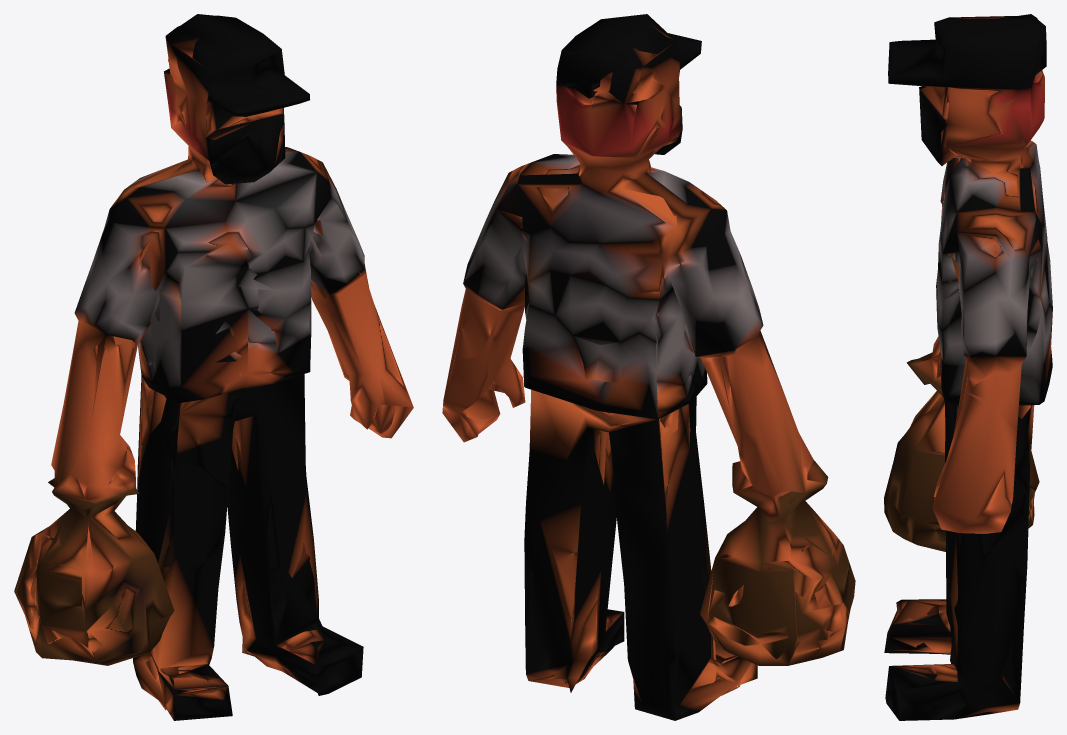
Rendered from gen3d-robber-lod0.glb.
3 views of the same model, side by side, from view 1: azimuth 30°, elevation 25°; view 2: azimuth 150°, elevation 25°; view 3: azimuth 270°, elevation 25° (orthographic). The views are drawn at different scales.
Parts seen in each view (by area): view 1: part_0; view 2: part_0; view 3: part_0.
Boxes of the visible parts, left/top/right/bottom form: part_0: left=14, top=14, right=413, bottom=720; part_0: left=442, top=14, right=855, bottom=720; part_0: left=884, top=14, right=1052, bottom=720.
Size of the model in its own units: 0.6103 by 0.9957 by 0.2327.
